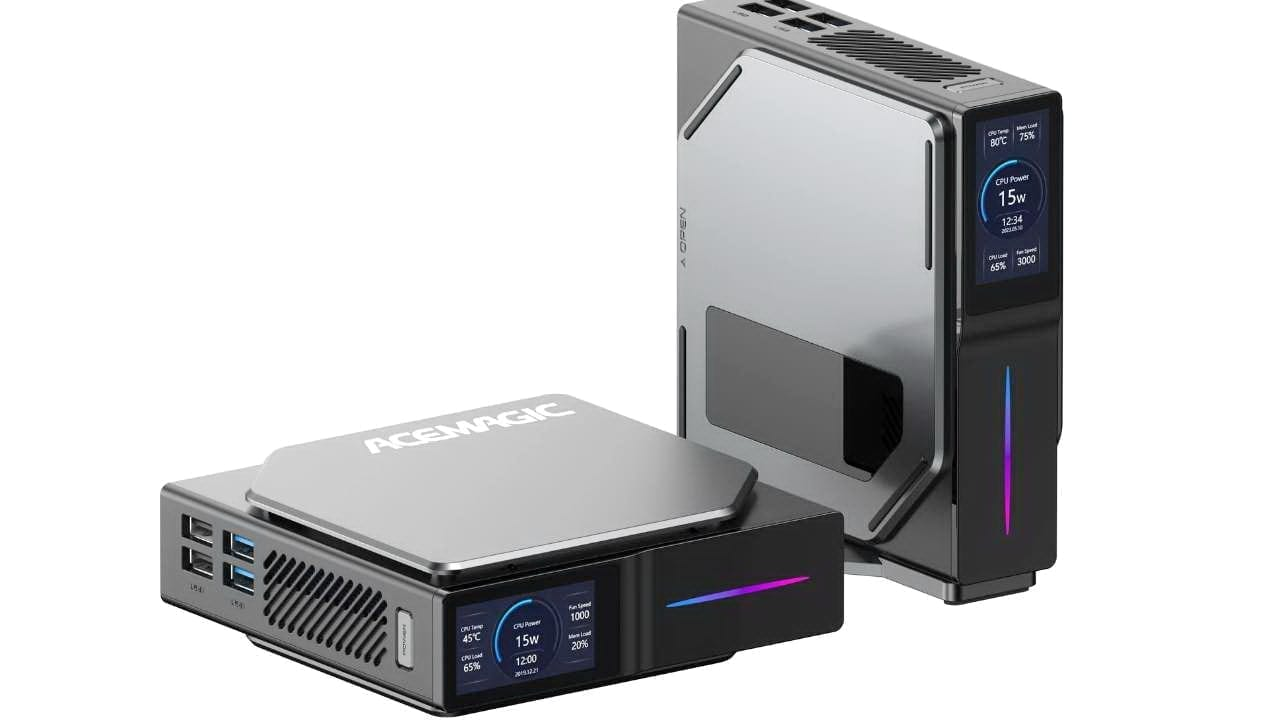Ordinateur: (191, 344, 677, 529)
